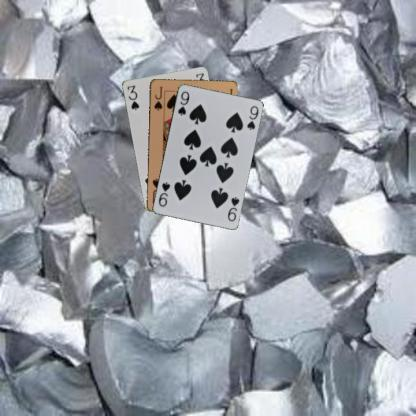3s: (124, 82, 140, 112)
9s: (175, 88, 191, 117), (225, 194, 240, 223)
Js: (152, 84, 164, 111)
